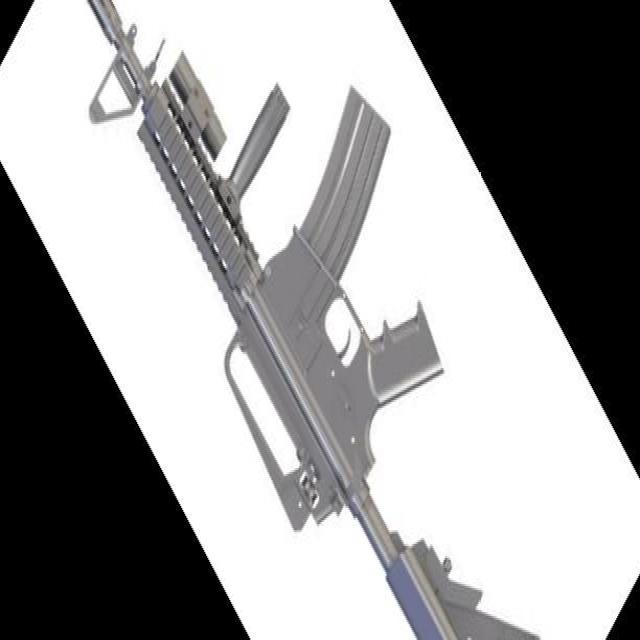weapon: (84, 0, 542, 640)
